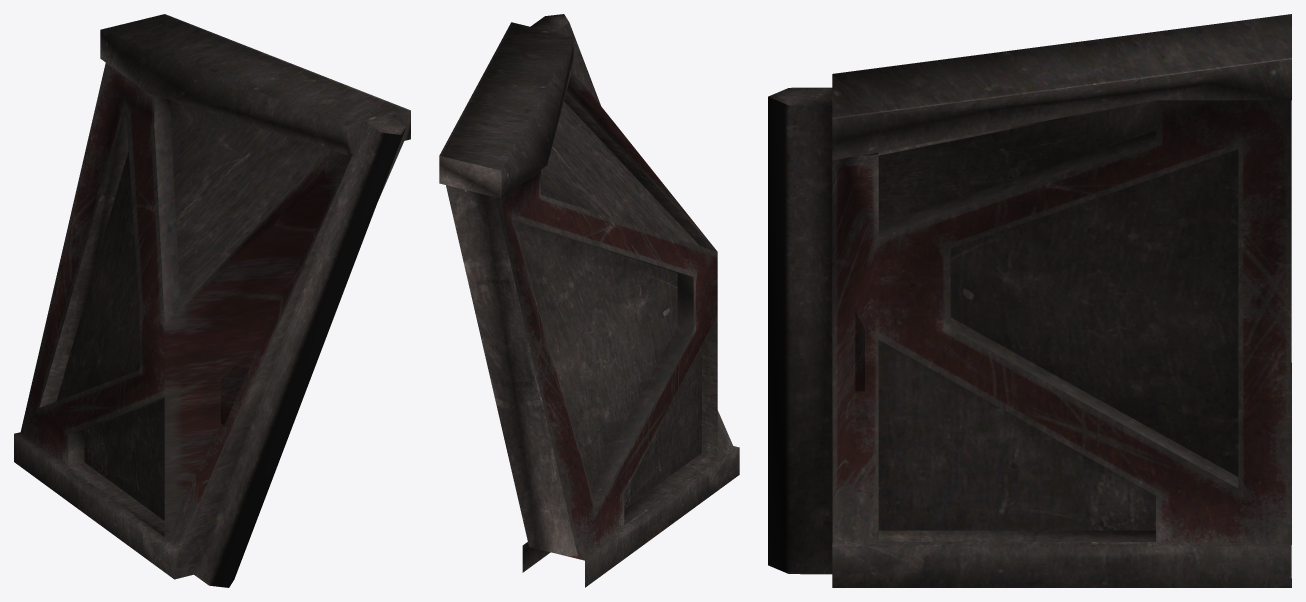
File: DestroedDoor.fbx
3 views of the same model, side by side, from view 1: azimuth 30°, elevation 25°; view 2: azimuth 150°, elevation 25°; view 3: azimuth 270°, elevation 25° (orthographic). The views are drawn at different scales.
Parts seen in each view (by area): view 1: Door_104; view 2: Door_104; view 3: Door_104.
Boxes of the visible parts, bbox=[...] form: Door_104: bbox=[14, 14, 410, 587]; Door_104: bbox=[439, 14, 739, 587]; Door_104: bbox=[768, 14, 1291, 587].
Bounding box in the file's own units: 202 × 336 × 271.
1 material, 1 textured.
